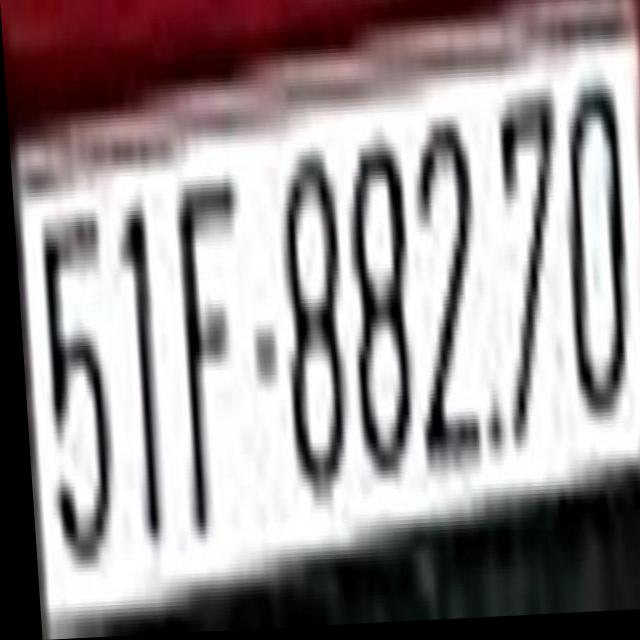0: (555, 84, 632, 443)
1: (114, 192, 159, 562)
2: (403, 109, 483, 480)
5: (35, 195, 112, 577)
7: (484, 90, 570, 466)
8: (274, 142, 347, 509), (339, 128, 412, 464)
F: (164, 165, 249, 533)
